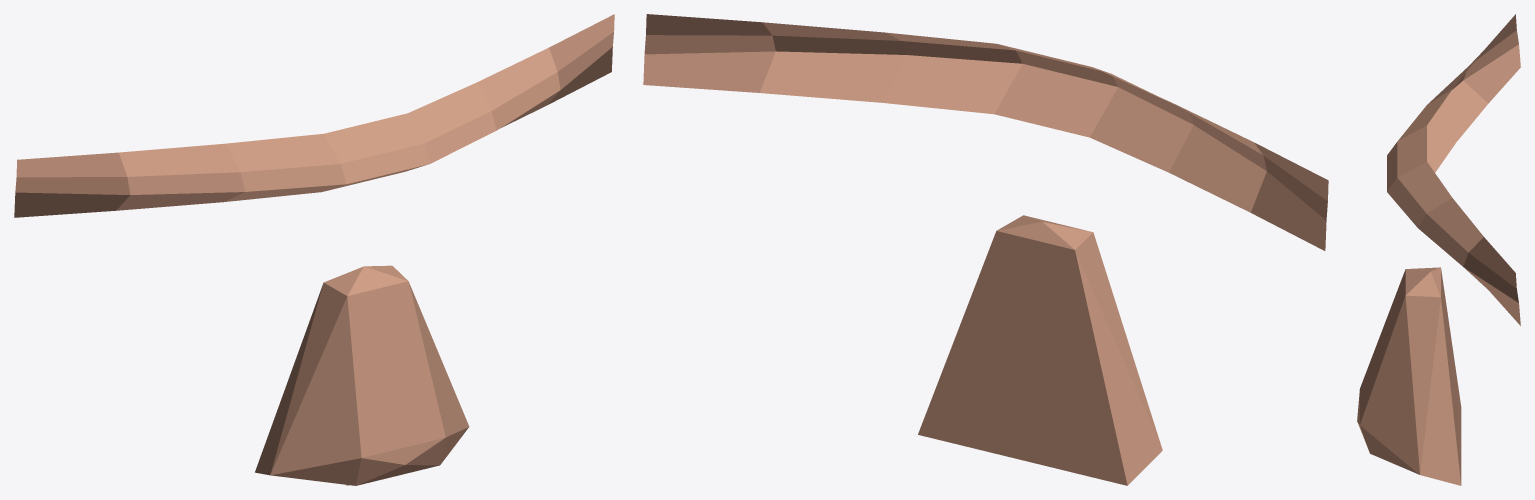
File: nose_gl_flat.glb
3 views of the same model, side by side, from view 1: azimuth 30°, elevation 25°; view 2: azimuth 150°, elevation 25°; view 3: azimuth 270°, elevation 25° (orthographic). The views are drawn at different scales.
Parts seen in each view (by area): view 1: Snout; view 2: Snout; view 3: Snout.
Boxes of the visible parts, x1,y1,x2,y2 form: Snout: (14,14,614,485); Snout: (643,14,1328,485); Snout: (1357,14,1520,485).
Size of the model in its own units: 0.156 by 0.085 by 0.0417.
Materials: 1 (1 with a texture image).
